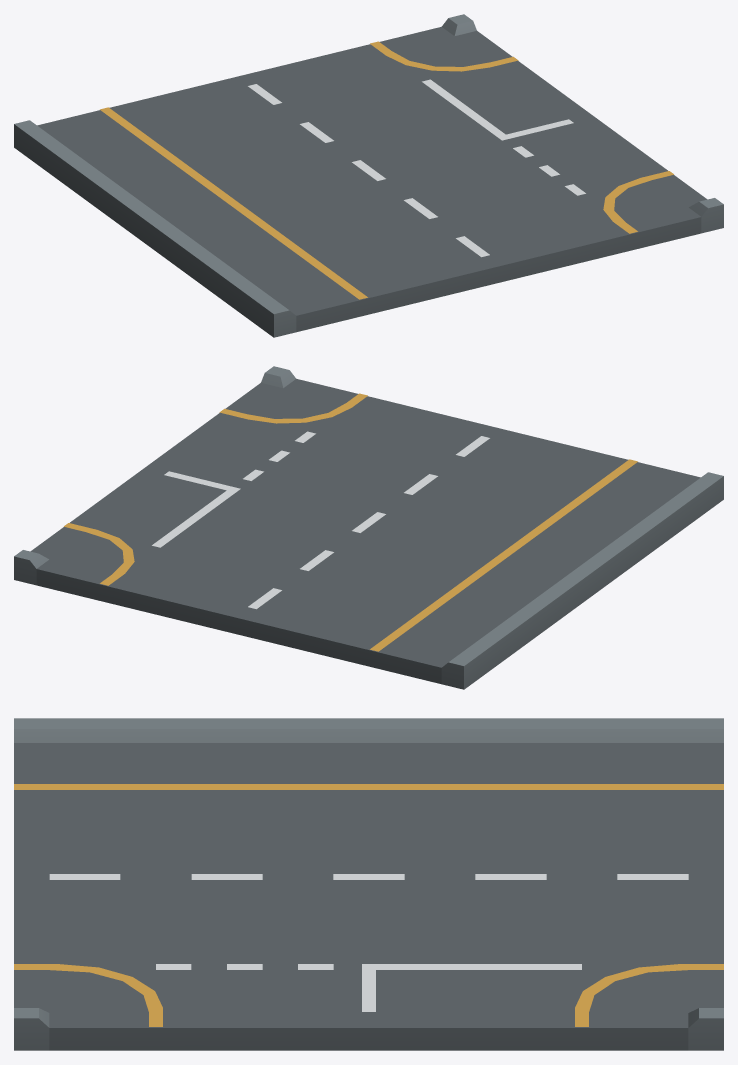
Rendered from road_tsplit.glb.
3 views of the same model, one above another, from view 1: azimuth 30°, elevation 25°; view 2: azimuth 150°, elevation 25°; view 3: azimuth 270°, elevation 25° (orthographic). The views are drawn at different scales.
Visible parts, largest first — view 1: road_tsplit; view 2: road_tsplit; view 3: road_tsplit.
Boxes of the visible parts, <box> form: road_tsplit: <box>14,14,723,337</box>; road_tsplit: <box>14,366,723,689</box>; road_tsplit: <box>14,718,723,1050</box>.
Bounding box in the file's own units: 2 × 0.1 × 2.
1 material, 1 textured.
